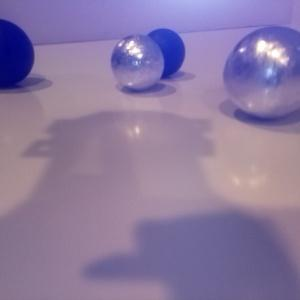alive_ball: (1, 35, 50, 143)
